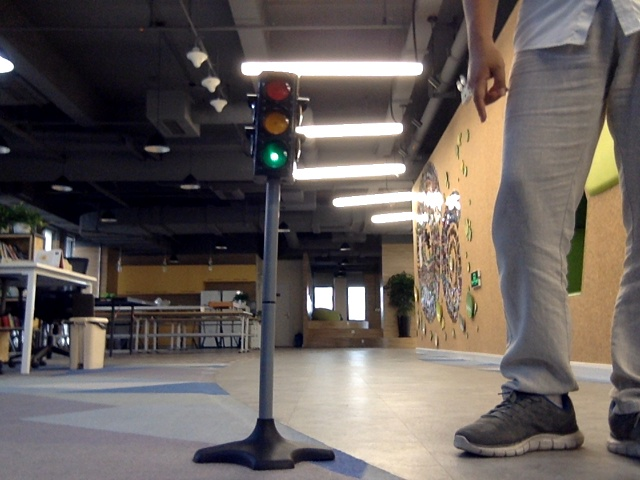green: (256, 75, 290, 170)
